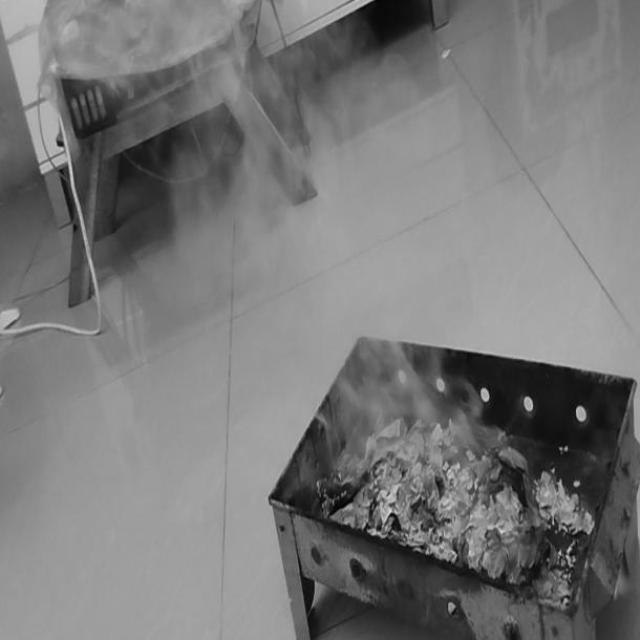fire: (168, 13, 282, 256), (331, 317, 481, 426)
